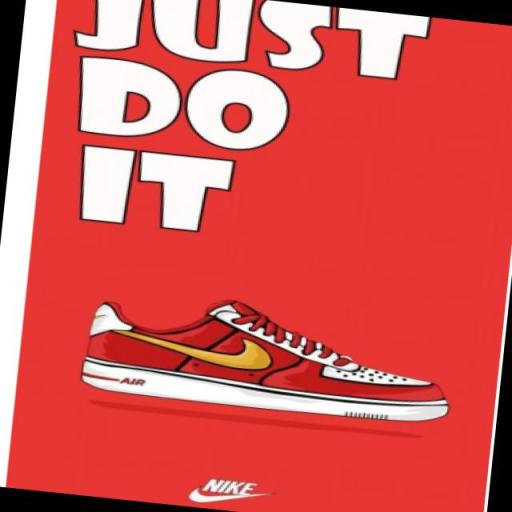Nike: (104, 319, 278, 381)
